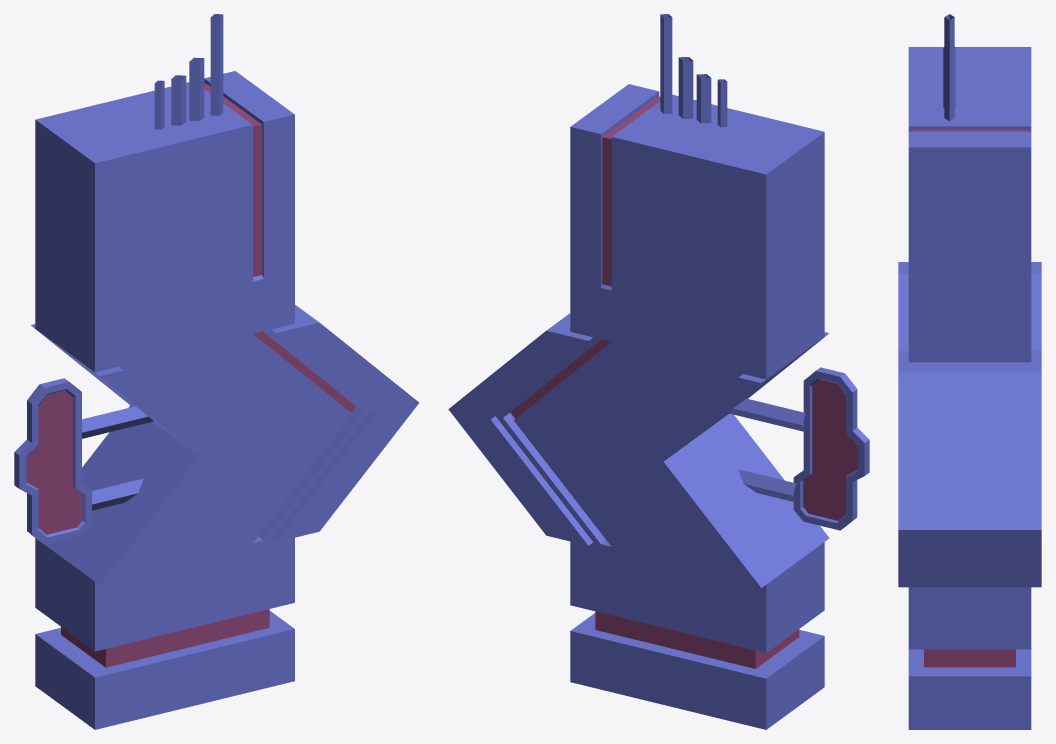
File: SM_buildingWithSign_01.FBX
3 views of the same model, side by side, from view 1: azimuth 30°, elevation 25°; view 2: azimuth 150°, elevation 25°; view 3: azimuth 270°, elevation 25° (orthographic). The views are drawn at different scales.
Visible parts, largest first — view 1: Box001; view 2: Box001; view 3: Box001.
Boxes of the visible parts, left/top/right/bottom form: Box001: left=14, top=14, right=419, bottom=729; Box001: left=448, top=14, right=869, bottom=729; Box001: left=898, top=14, right=1041, bottom=729.
Bounding box in the file's own units: 441 × 738 × 140.
